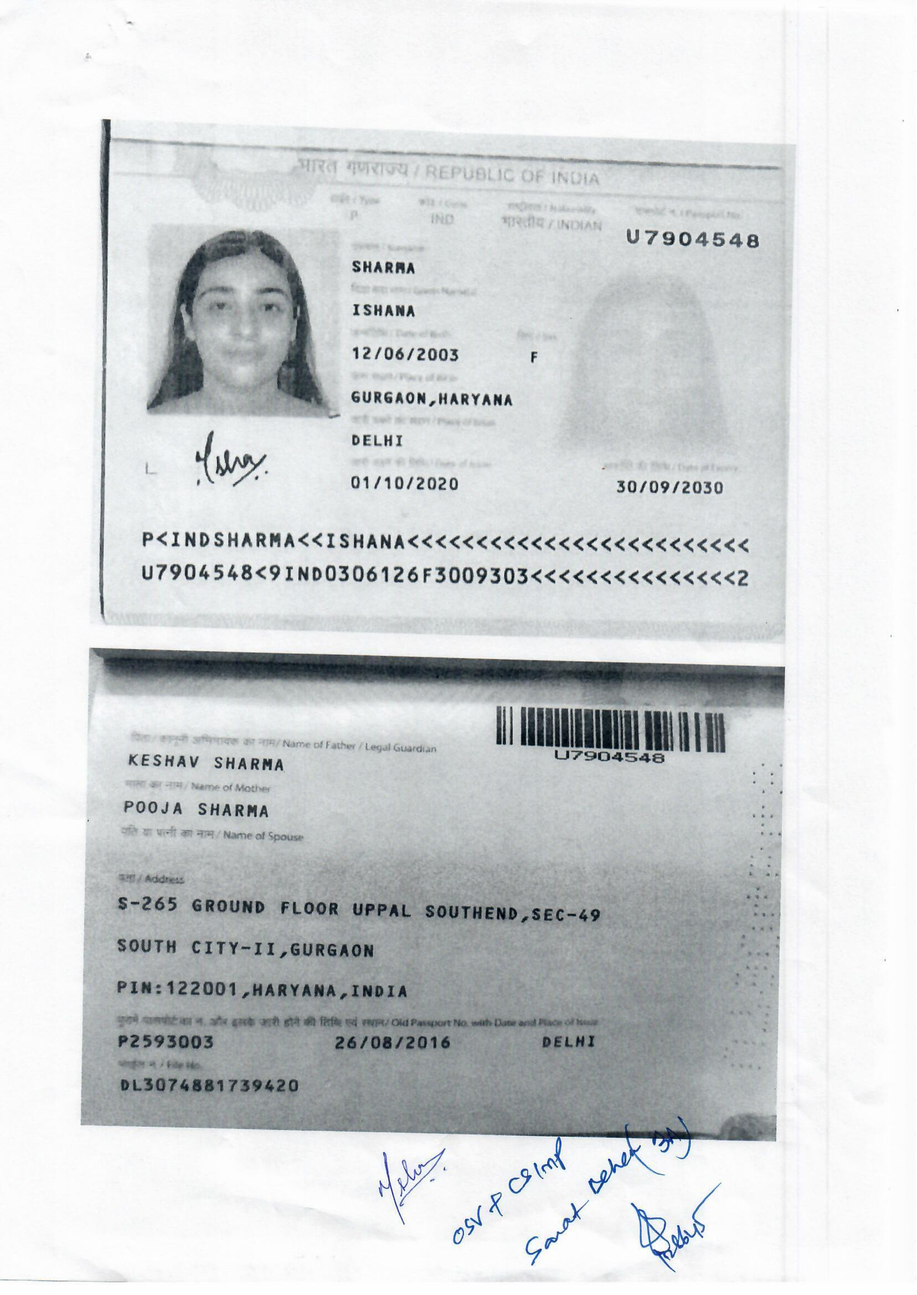DOB: (341, 338, 470, 370)
File_no: (113, 1073, 309, 1101)
Surname: (346, 252, 423, 280)
address: (105, 877, 611, 1012)
country_code: (425, 207, 461, 233)
date_of_expiry: (601, 470, 733, 503)
date_of_issue: (343, 465, 476, 495)
details: (115, 522, 758, 594)
father_name: (118, 745, 297, 779)
mother_name: (104, 788, 302, 823)
name: (342, 294, 490, 326)
nationality: (492, 208, 605, 239)
old_passport_details: (100, 1026, 604, 1055)
passport_no: (614, 220, 770, 255), (549, 740, 674, 772)
photo: (157, 226, 335, 415)
place_of_birth: (343, 383, 527, 412)
place_of_issue: (347, 429, 415, 449)
sex: (513, 342, 555, 375)
sign: (172, 425, 297, 498)
type: (330, 204, 374, 234)
